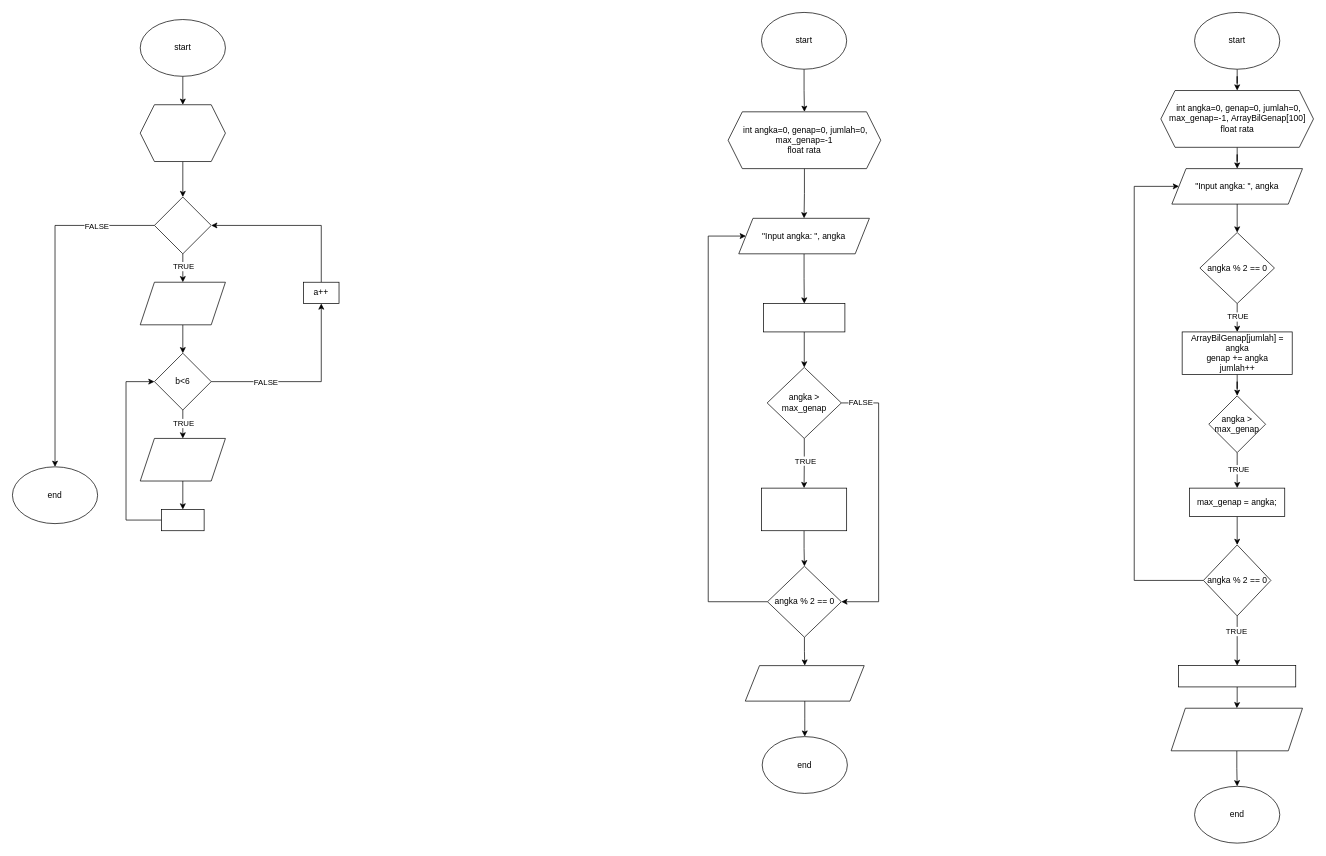
The diagram is 1326 pixels wide and 856 high, and some of its shapes have lost their labels. Here are the shapes that lost their labels. From the top down, the centre of each, then its label:
(182,133): int a=1,b=1
(182,225): a<6
(182,303): loyang ke %d
(804,317): genap += angka jumlah++
(182,459): *\t0\t#\tX\n
(182,520): b++
(804,509): max_genap = angka
(804,683): rata-rata Genap: maximum genap: banyak bilangan:
(1237,676): rata = (float)genap / jumlah
(1236,729): Rata-rata Genap: Maximum Genap: Banyak Bilangan Genap:
